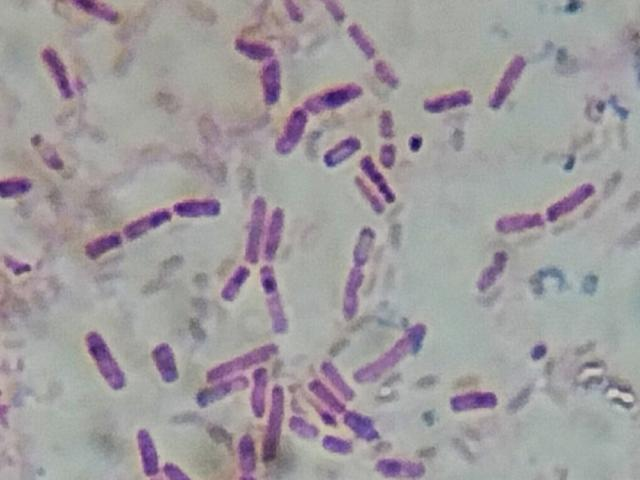E. coli: (357, 321, 432, 392), (79, 327, 125, 396), (359, 144, 404, 206), (486, 49, 527, 110), (547, 184, 599, 228), (116, 197, 170, 239), (262, 266, 290, 338), (208, 343, 284, 368), (170, 190, 224, 225), (449, 384, 502, 419), (307, 76, 360, 111), (44, 46, 78, 100), (146, 337, 182, 386), (339, 266, 368, 326), (474, 245, 510, 293), (495, 204, 548, 235), (317, 362, 356, 404), (240, 190, 264, 256), (193, 381, 248, 409), (344, 410, 385, 447), (268, 379, 285, 467), (27, 130, 66, 168), (219, 264, 256, 304), (423, 89, 474, 117), (320, 134, 362, 166), (71, 0, 122, 26), (277, 108, 305, 152), (342, 21, 376, 57), (83, 229, 120, 262), (348, 221, 376, 264), (260, 62, 283, 107), (356, 175, 381, 215), (137, 424, 156, 473), (235, 434, 255, 480), (0, 171, 34, 198), (306, 378, 329, 415), (235, 32, 269, 57), (268, 207, 284, 254), (323, 431, 353, 455), (286, 0, 309, 30), (376, 109, 402, 135), (374, 62, 400, 87), (294, 416, 315, 440), (164, 458, 184, 480)
